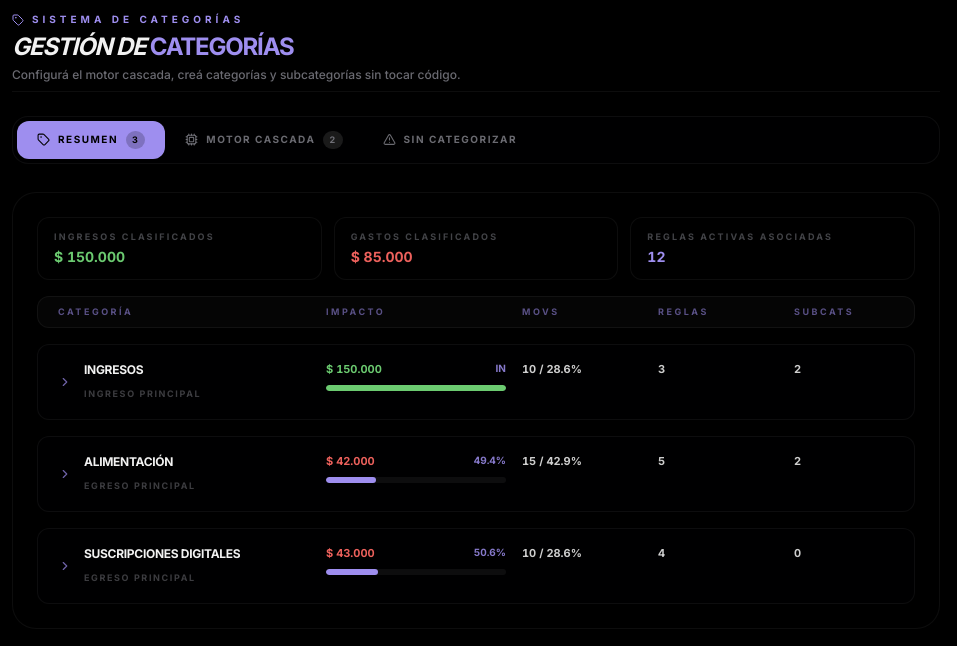
Test case: CategoriasPage › cambia al tab Sin Categorizar y muestra su contenido
Click the button "Sin Categorizar" at [450, 140], box [363, 121, 537, 158]
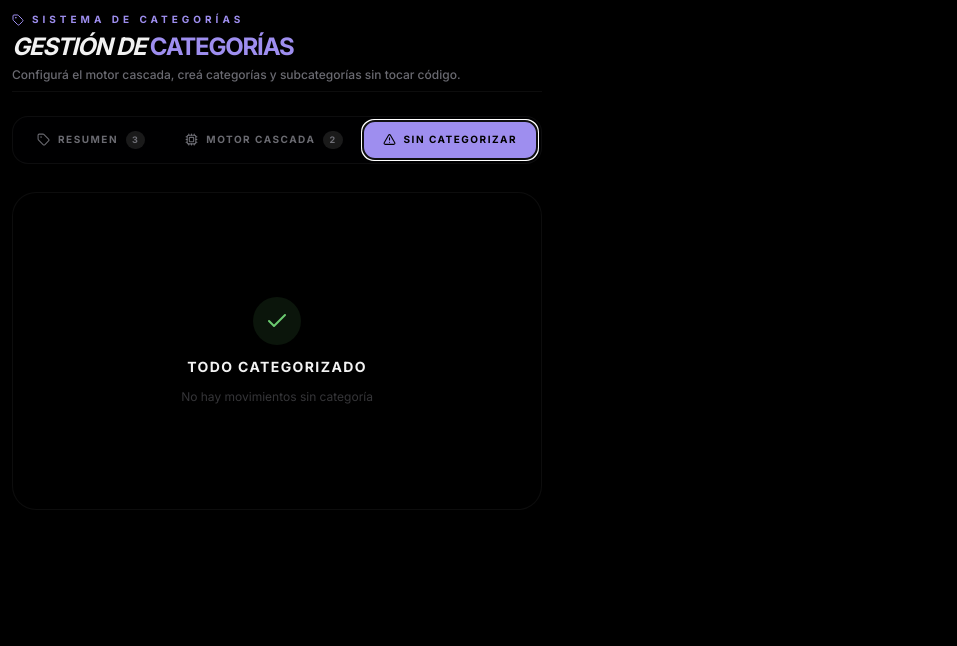
Expected: the text "Todo categorizado" is shown, [187, 356, 367, 376]
